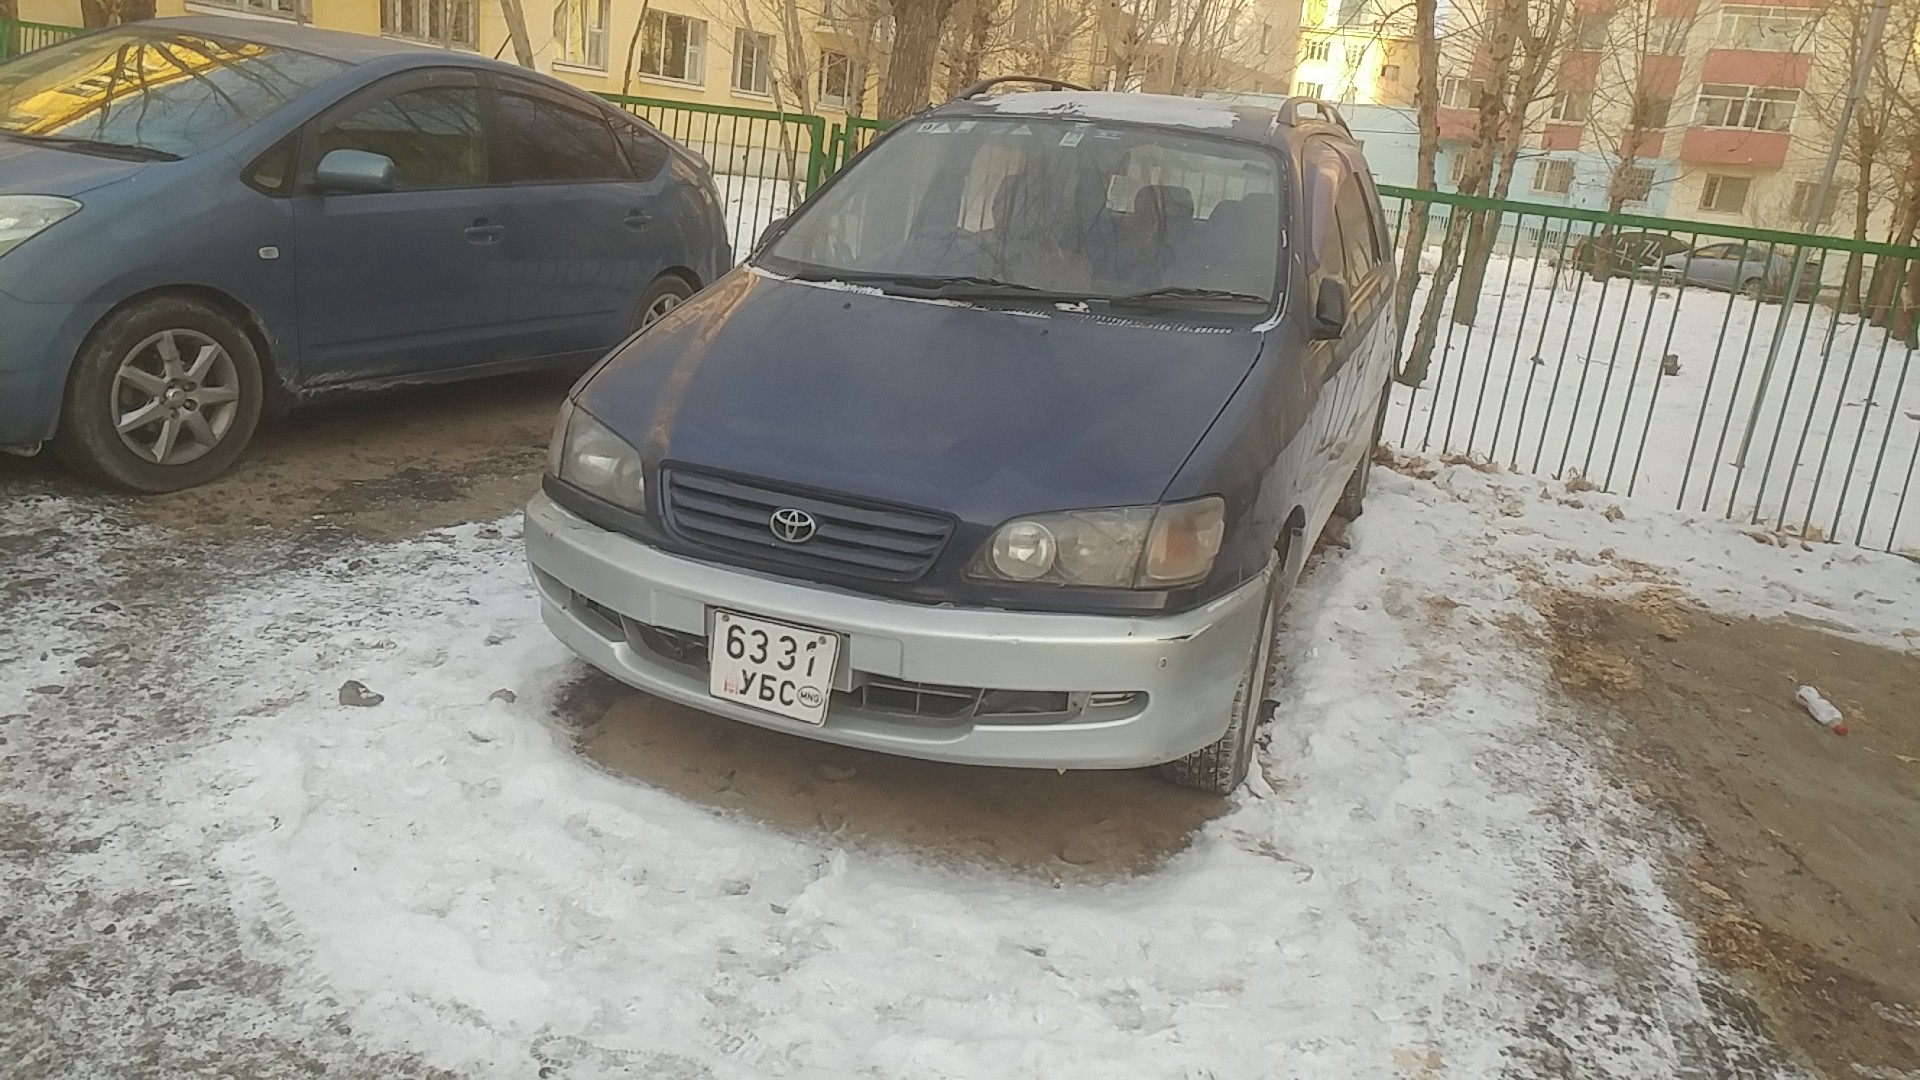1: (804, 639, 822, 678)
3: (775, 633, 798, 672), (747, 629, 770, 664)
6: (725, 622, 746, 659)
b: (758, 672, 777, 701)
plate: (707, 606, 843, 732)
s: (778, 677, 797, 707)
u: (738, 668, 757, 696)
